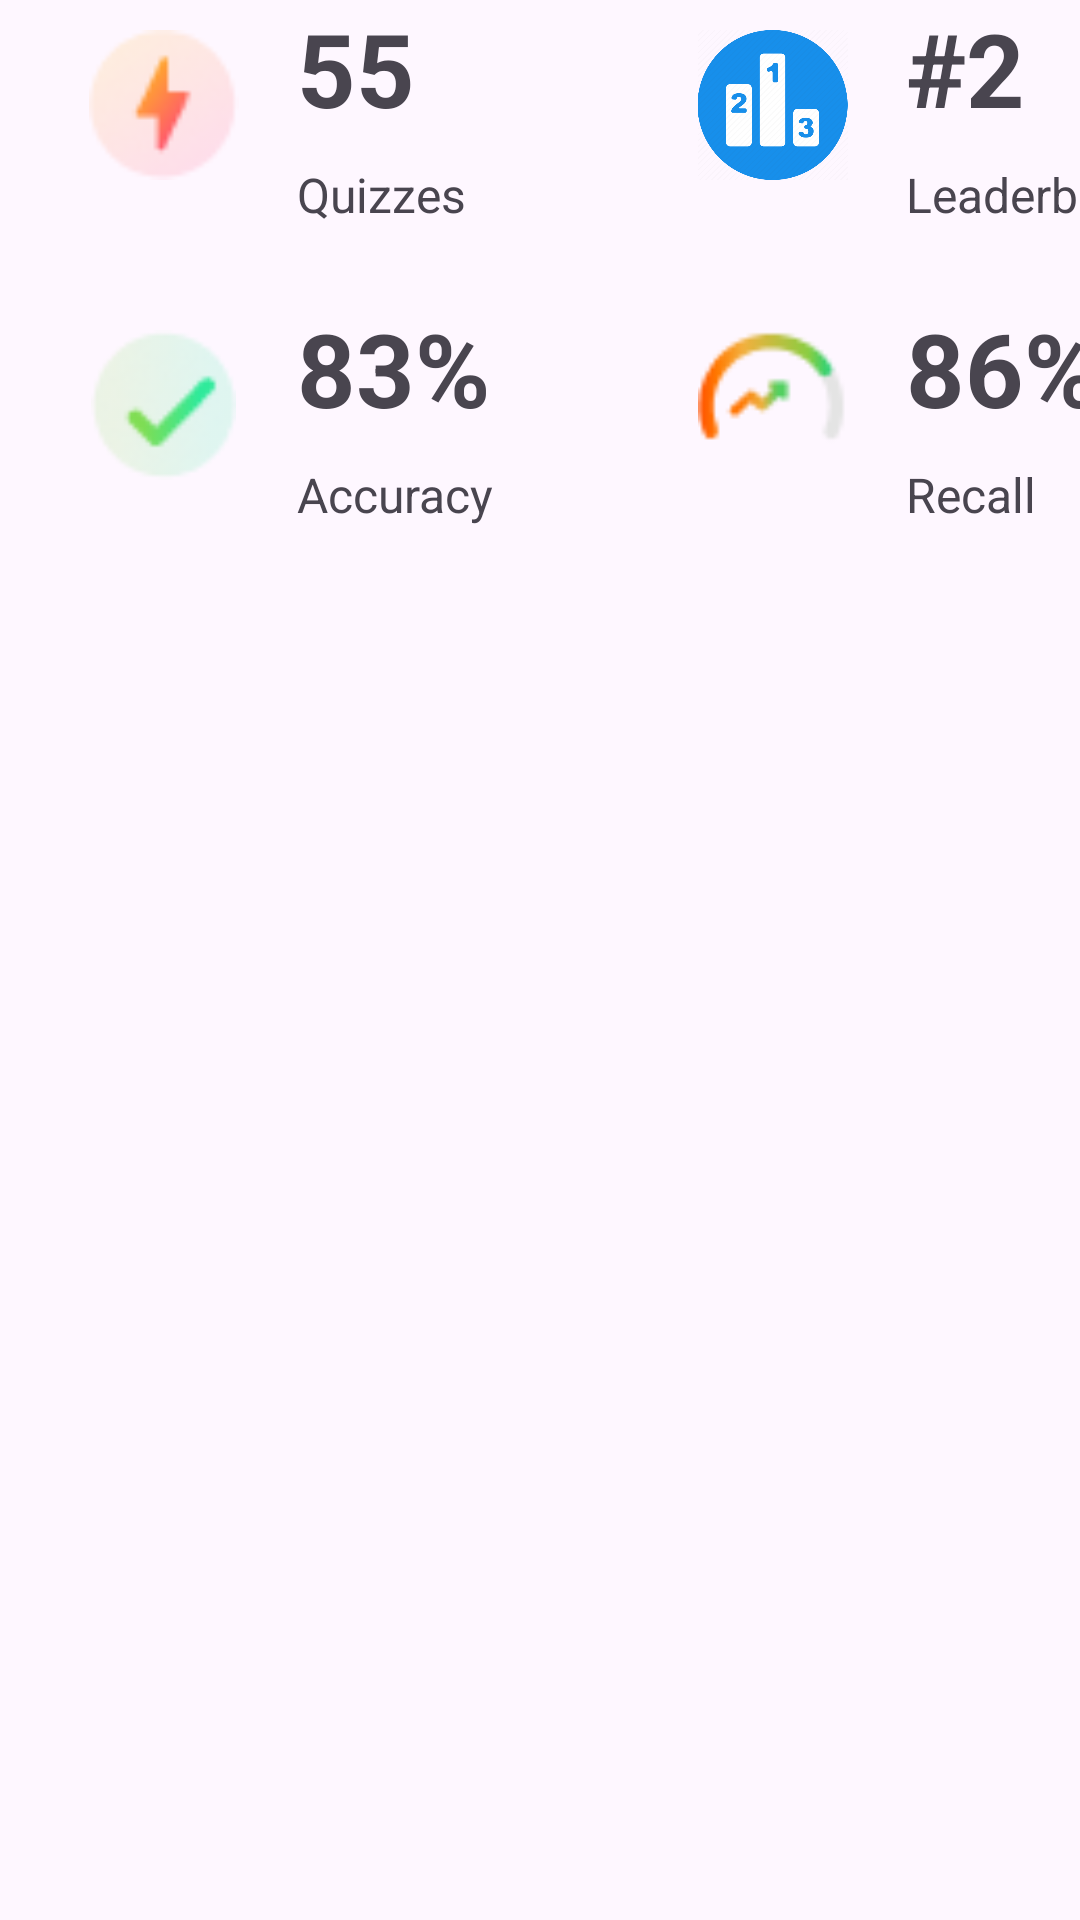

Icon bounding boxes for this 1080px×1920px phone screenshot, format (x1, y1, x2, y2):
checkprofil: (97, 336, 232, 474)
ecoleaderb: (698, 30, 848, 180)
